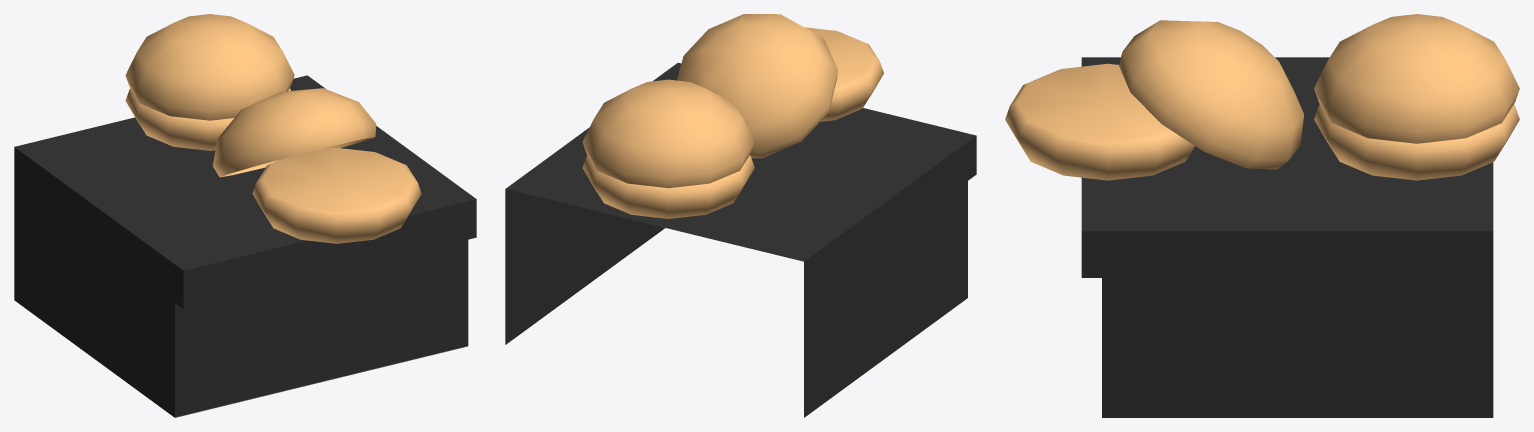
The model's file is buns.dae.
3 views of the same model, side by side, from view 1: azimuth 30°, elevation 25°; view 2: azimuth 150°, elevation 25°; view 3: azimuth 270°, elevation 25° (orthographic). The views are drawn at different scales.
Visible parts, largest first — view 1: Regroup04, Regroup01, Regroup07, Duplicate04, Duplicate00, Regroup02, Regroup09, Regroup06; view 2: Regroup07, Regroup01, Duplicate04, Regroup09, Regroup06, Duplicate00; view 3: Regroup07, Regroup01, Duplicate04, Regroup06, Regroup09, Duplicate00.
Part boxes in pixels (x1,y1,x2,y2): Regroup04: (175, 240, 468, 417); Regroup01: (14, 75, 476, 270); Regroup07: (14, 185, 174, 417); Duplicate04: (125, 14, 294, 150); Duplicate00: (252, 148, 421, 243); Regroup02: (183, 199, 476, 308); Regroup09: (212, 88, 376, 177); Regroup06: (14, 147, 183, 308); Regroup07: (505, 181, 967, 417); Regroup01: (506, 63, 975, 261); Duplicate04: (582, 79, 754, 218); Regroup09: (677, 14, 837, 158); Regroup06: (505, 135, 976, 300); Duplicate00: (804, 27, 883, 121); Regroup07: (1102, 278, 1493, 417); Regroup01: (1081, 57, 1493, 231); Duplicate04: (1314, 14, 1519, 180); Regroup06: (1081, 231, 1493, 277); Regroup09: (1119, 20, 1304, 169); Duplicate00: (1005, 63, 1194, 180).
Size of the model in its own units: 4 by 3.36 by 5.
